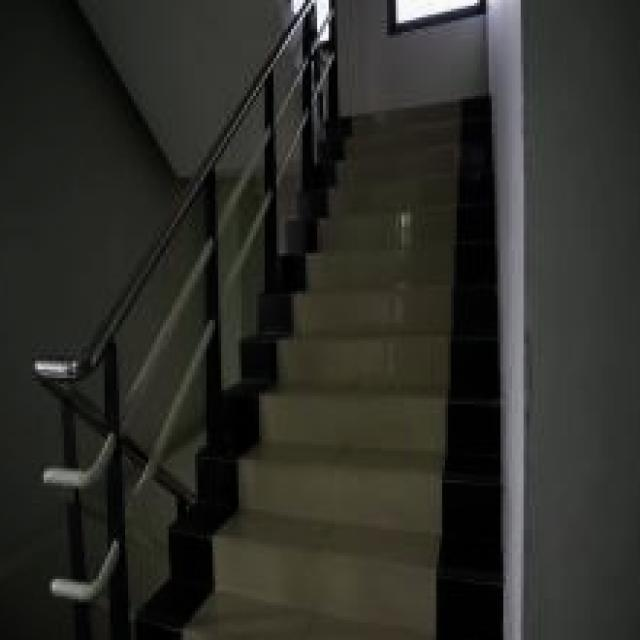upstair: (274, 105, 483, 640)
